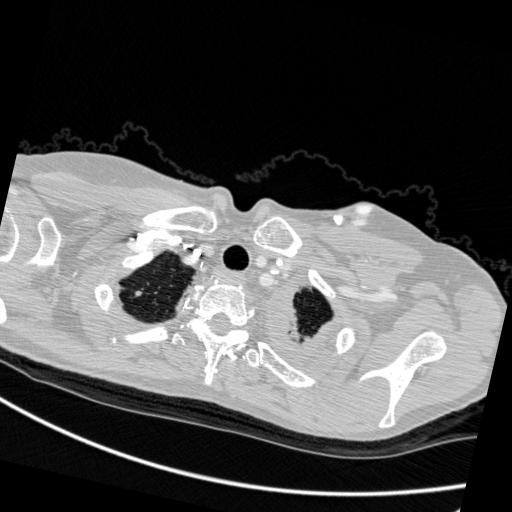nodule: (135, 288, 148, 301)
